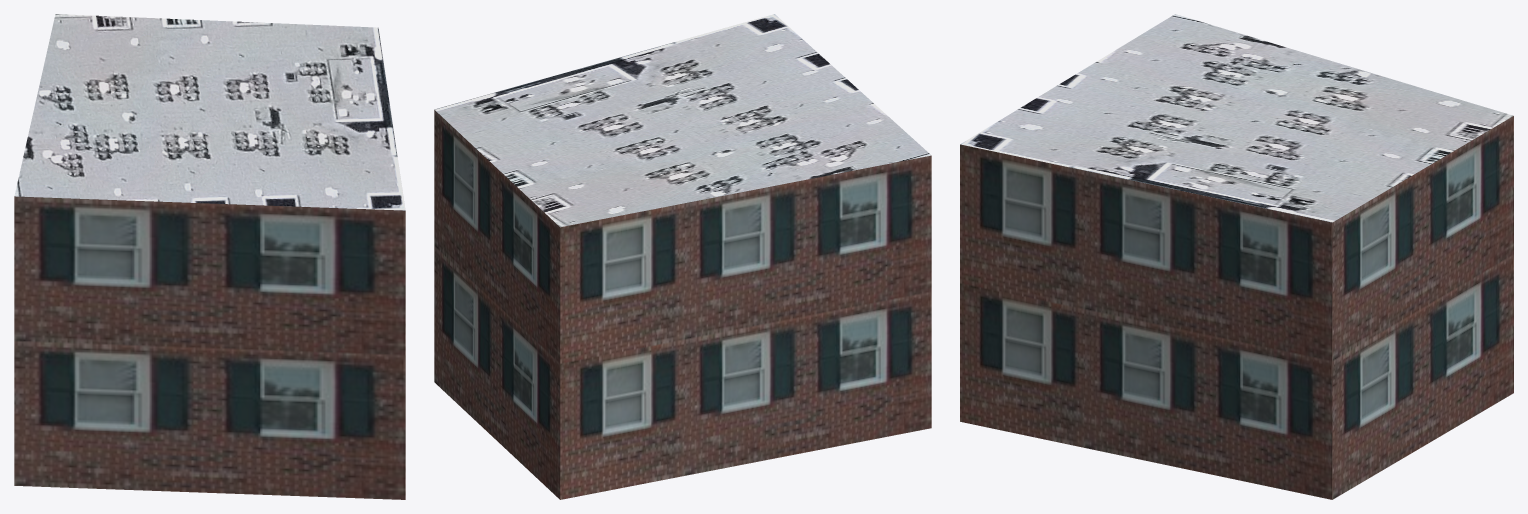
Rendered from ResTex__3857.fbx.
3 views of the same model, side by side, from view 1: azimuth 30°, elevation 25°; view 2: azimuth 150°, elevation 25°; view 3: azimuth 270°, elevation 25° (orthographic). The views are drawn at different scales.
Parts seen in each view (by area): view 1: CityEngineMaterial_14_m, CityEngineMaterial_4_m; view 2: CityEngineMaterial_14_m, CityEngineMaterial_4_m; view 3: CityEngineMaterial_14_m, CityEngineMaterial_4_m.
Part boxes in pixels (x1,y1,x2,y2): CityEngineMaterial_14_m: (14, 196, 405, 499); CityEngineMaterial_4_m: (14, 14, 405, 210); CityEngineMaterial_14_m: (434, 110, 931, 499); CityEngineMaterial_4_m: (434, 14, 931, 227); CityEngineMaterial_14_m: (960, 116, 1513, 499); CityEngineMaterial_4_m: (960, 14, 1513, 222).
Size of the model in its own units: 9.68 by 6 by 10.86.
Materials: 2 (2 with a texture image).
